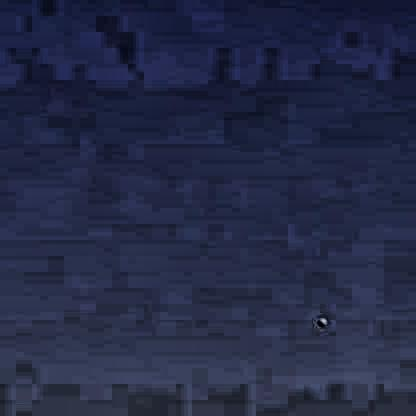golfball: (314, 315, 324, 326)
